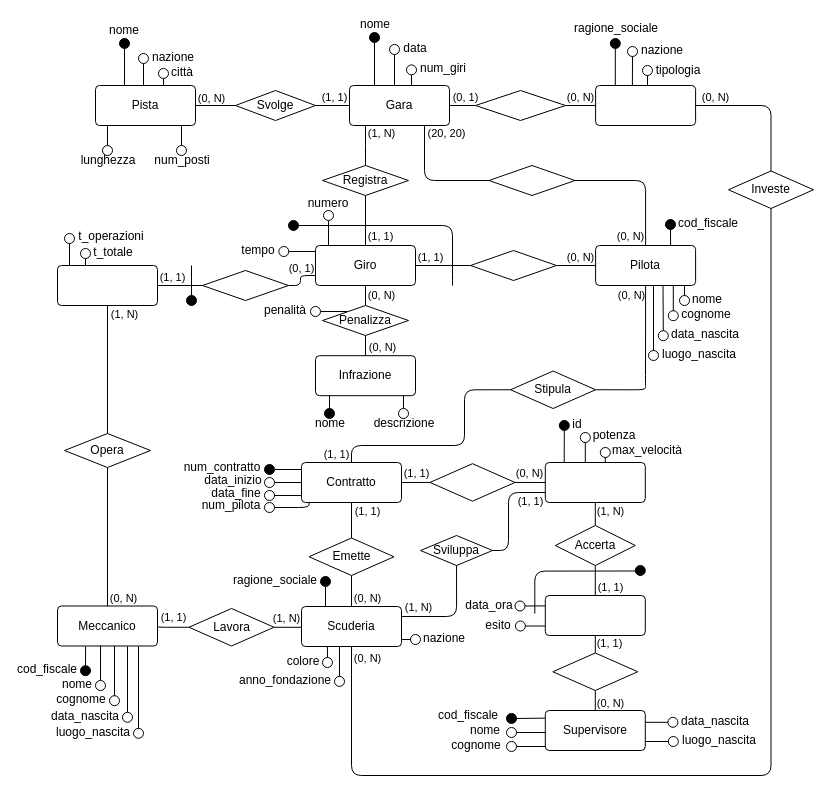
This 831x794 diagram has some shape labels left out. The shapes that lost their labels are listed below. From the top down, each one's centre as x and y in pixels, then its label:
At point 520,105: "Promuove".
At point 645,105: "Sponsor".
At point 531,180: "Partecipa".
At point 107,285: "Pit stop".
At point 245,285: "Chiamata".
At point 513,265: "Effettua".
At point 472,482: "Assegna".
At point 594,482: "Auto".
At point 594,615: "Controllo".
At point 595,671: "Verifica".
